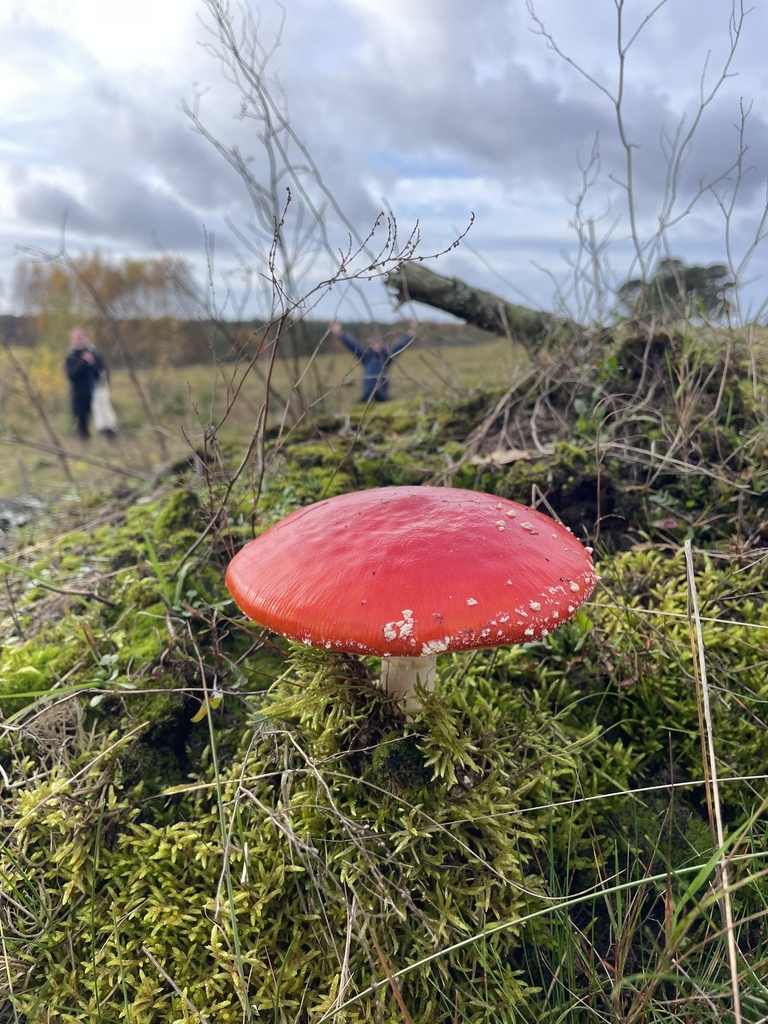Cap: (226, 486, 596, 658)
Stem: (381, 656, 435, 706)
